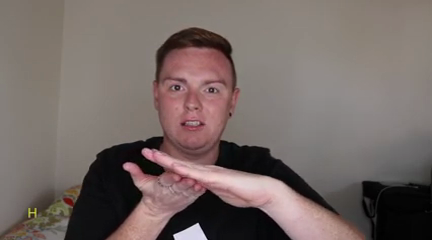H: (108, 142, 271, 228)
